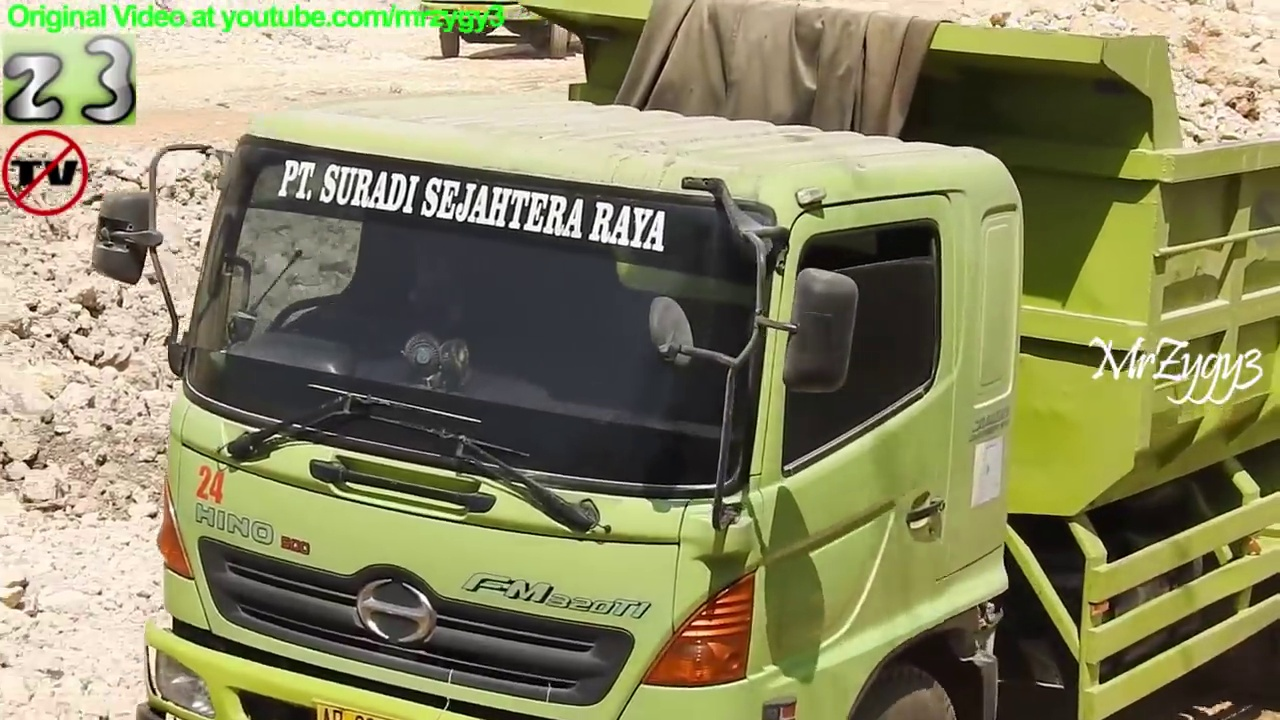truck: (88, 1, 1280, 720), (406, 1, 758, 62)
